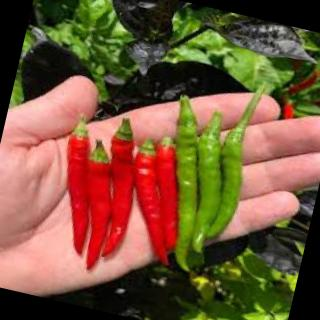Cabai Hijau: (169, 125, 237, 281), (200, 125, 247, 259)
Cabai Merah: (1, 56, 107, 256), (123, 135, 202, 266), (65, 148, 129, 274)
